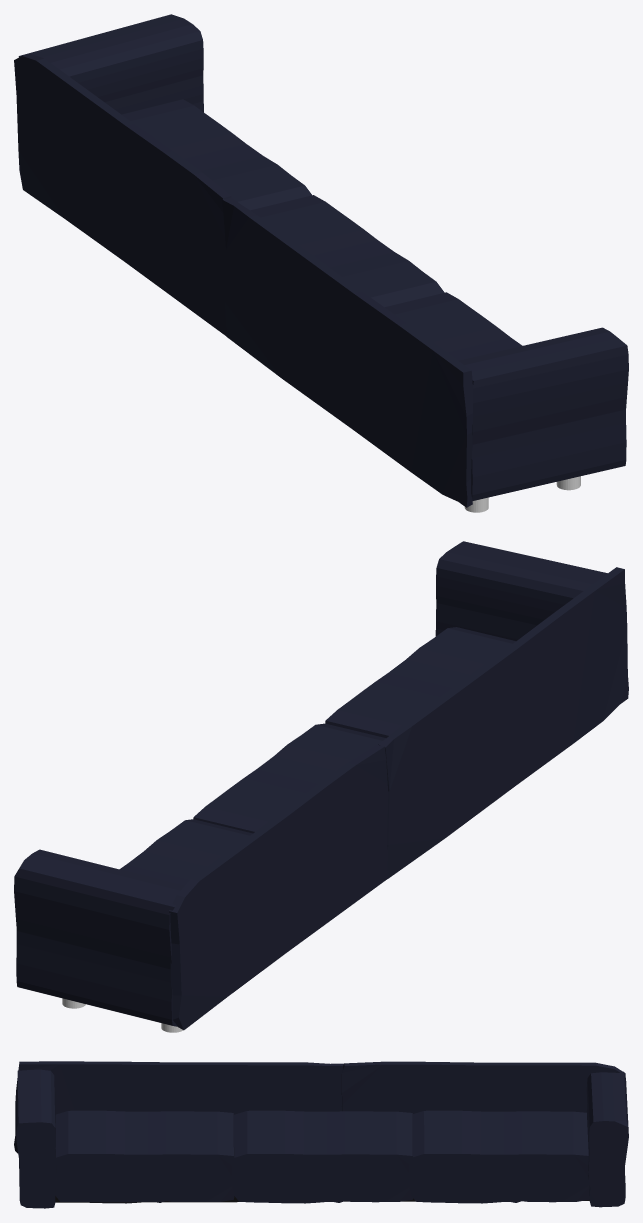
File: sofa_DD.glb
The picture shows the model from 3 angles, top to bottom: view 1: azimuth 30°, elevation 25°; view 2: azimuth 150°, elevation 25°; view 3: azimuth 270°, elevation 25°; orthographic projection. The views are drawn at different scales.
Parts seen in each view (by area): view 1: Plane.001, Plane.002, Circle.003, Circle.004, Circle.001, Circle.002, Circle.005; view 2: Plane.001, Plane.002, Circle.004, Circle.003, Circle.005, Circle.001, Circle.002; view 3: Circle.001, Circle.005, Circle.002, Plane.001, Plane.002, Circle.003, Circle.004, Plane.
Part boxes in pixels (bbox=[...]): Plane.001: bbox=[222, 197, 472, 507]; Plane.002: bbox=[14, 54, 231, 336]; Circle.003: bbox=[458, 327, 628, 500]; Circle.004: bbox=[18, 14, 203, 114]; Circle.001: bbox=[250, 195, 444, 307]; Circle.002: bbox=[122, 99, 311, 210]; Circle.005: bbox=[385, 292, 522, 360]; Plane.001: bbox=[378, 567, 628, 878]; Plane.002: bbox=[169, 744, 388, 1030]; Circle.004: bbox=[14, 849, 184, 1026]; Circle.003: bbox=[435, 541, 607, 641]; Circle.005: bbox=[325, 627, 515, 738]; Circle.001: bbox=[193, 723, 385, 833]; Circle.002: bbox=[119, 819, 252, 885]; Circle.001: bbox=[232, 1110, 412, 1203]; Circle.005: bbox=[55, 1110, 234, 1203]; Circle.002: bbox=[409, 1110, 589, 1203]; Plane.001: bbox=[14, 1061, 343, 1153]; Plane.002: bbox=[341, 1061, 625, 1113]; Circle.003: bbox=[16, 1069, 56, 1208]; Circle.004: bbox=[586, 1071, 628, 1207]; Plane: bbox=[55, 1196, 589, 1202].
Size of the model in its own units: 1.33 by 1.15 by 6.42.
Materials: 5 (5 with a texture image).
